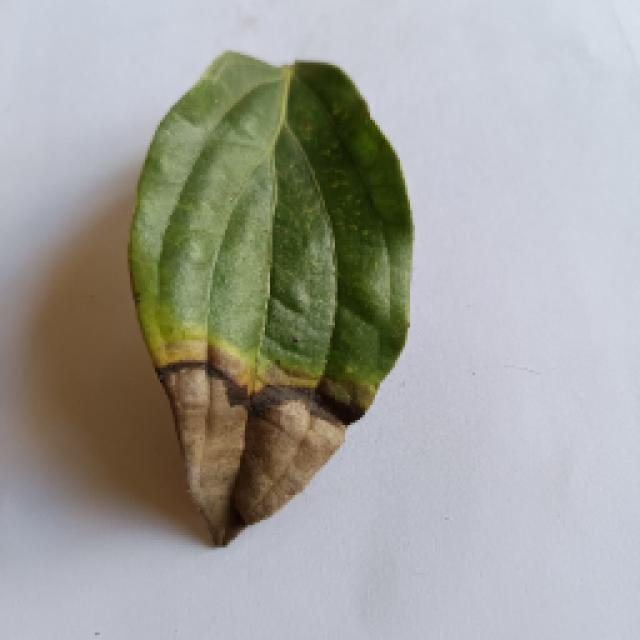footrot: (122, 50, 418, 552)
